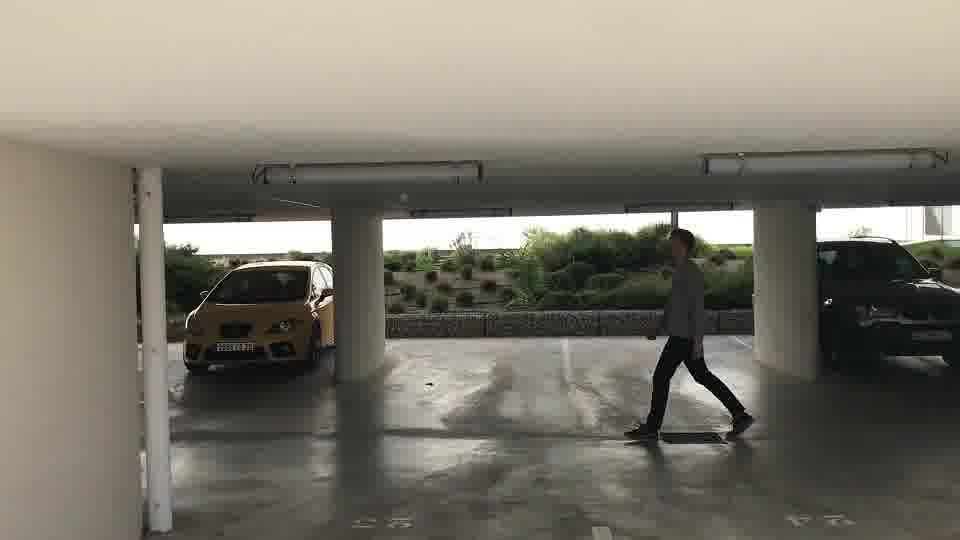jugador: (623, 223, 755, 450)
